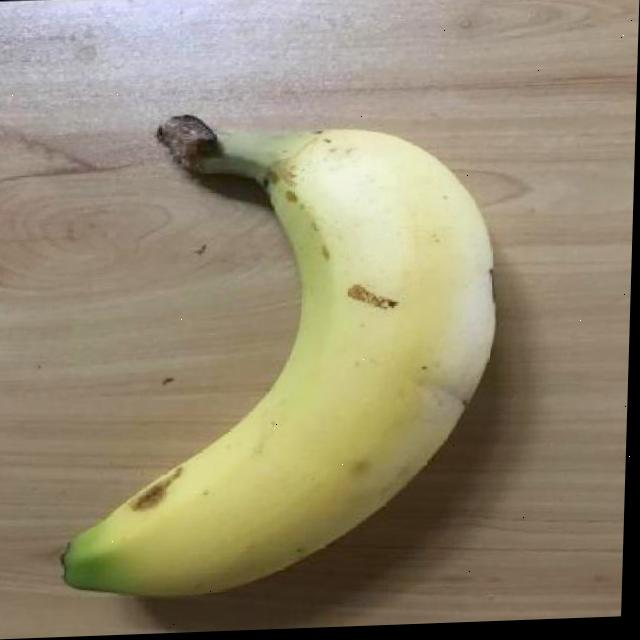banana: (53, 101, 502, 606)
